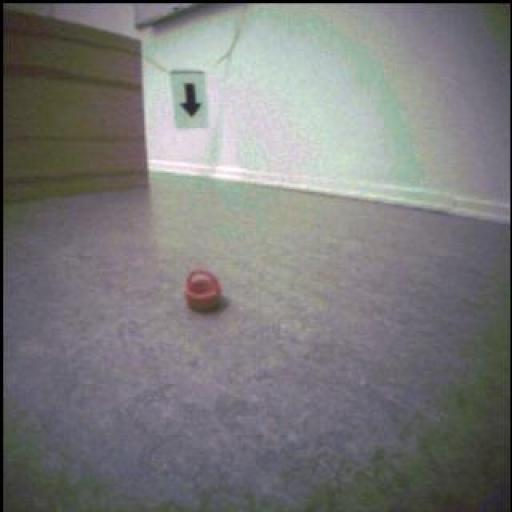Arrow: (182, 84, 203, 118)
Bucket: (185, 267, 224, 311)
